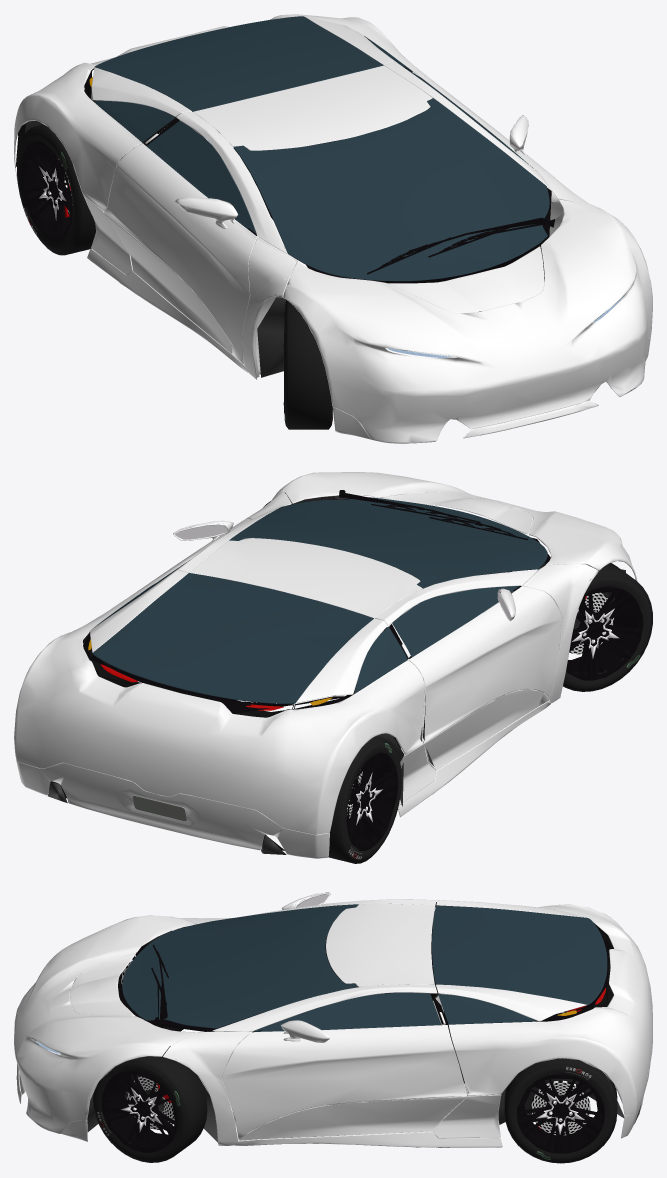
File: street-car.glb
The picture shows the model from 3 angles, top to bottom: view 1: azimuth 30°, elevation 25°; view 2: azimuth 150°, elevation 25°; view 3: azimuth 270°, elevation 25°; orthographic projection. The views are drawn at different scales.
Parts seen in each view (by area): view 1: body, WheelRearR, WheelFrontR; view 2: body, WheelFrontR, WheelRearR; view 3: body, WheelFrontL, WheelRearL.
Boxes of the visible parts, x1,y1,x2,y2 form: body: [14, 14, 652, 443]; WheelRearR: [17, 124, 95, 255]; WheelFrontR: [283, 300, 332, 429]; body: [14, 472, 637, 858]; WheelFrontR: [563, 563, 652, 691]; WheelRearR: [328, 736, 401, 863]; body: [14, 892, 652, 1147]; WheelFrontL: [93, 1050, 207, 1162]; WheelRearL: [504, 1058, 617, 1163].
Size of the model in its own units: 2.48 by 1.12 by 4.25.
16 materials, 4 textured.
